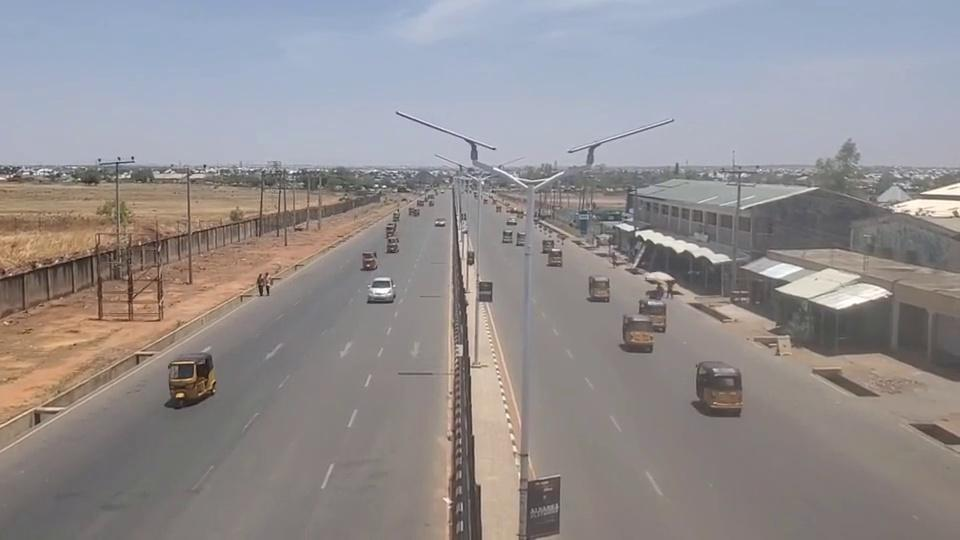keke: (694, 360, 742, 414), (167, 351, 216, 403)
